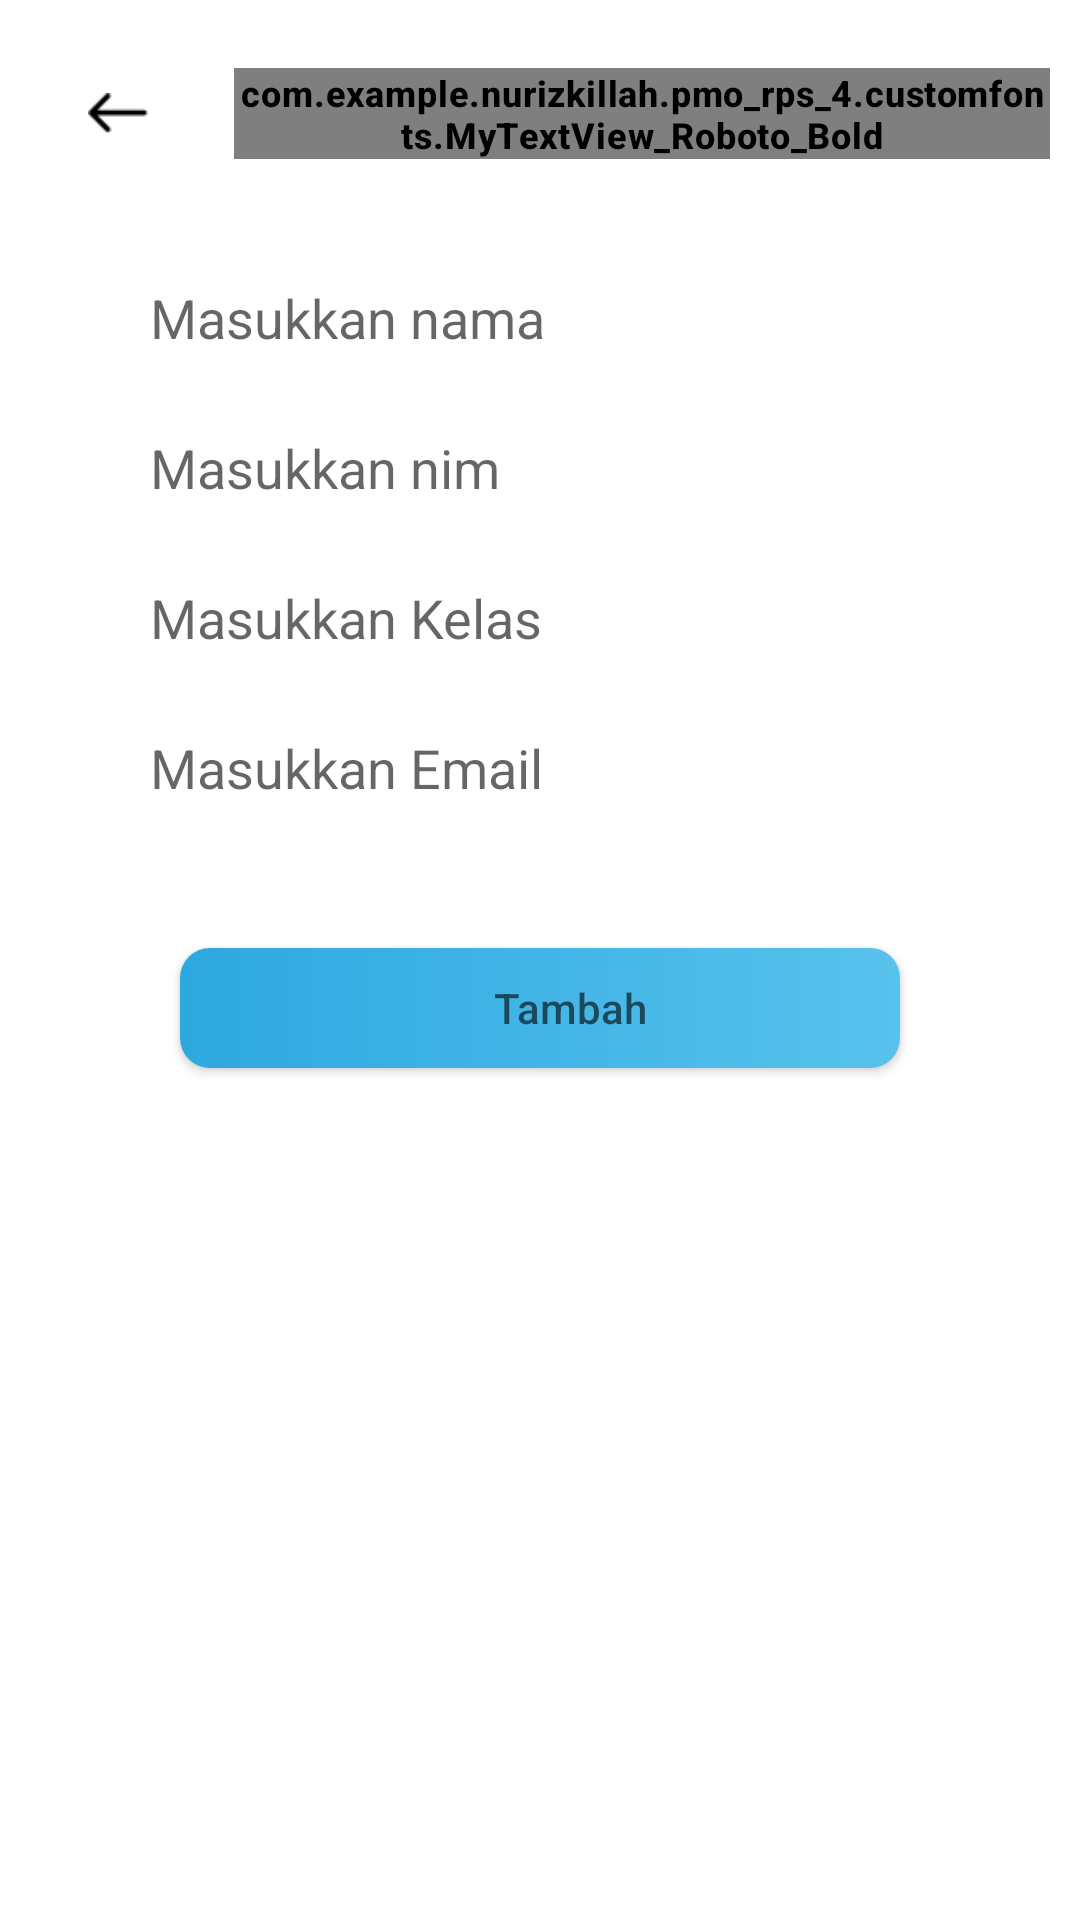

Icon click points for this 1080px×1920px phone screenshot, format point (x, y):
back: point (118, 113)
